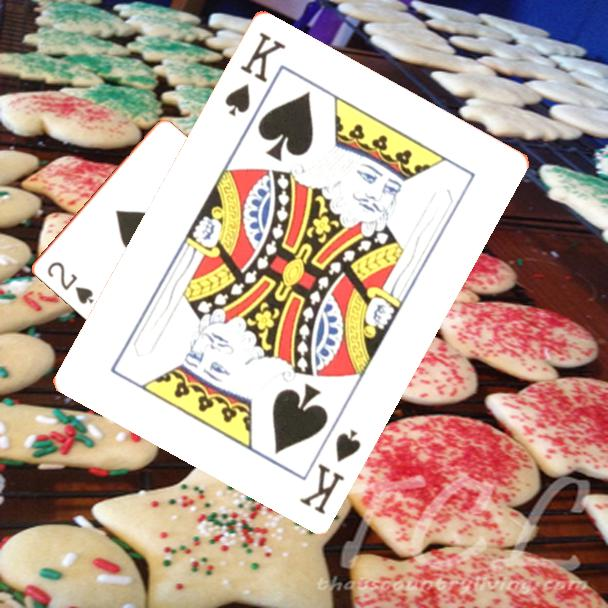s02: (43, 258, 96, 307)
s13: (295, 424, 364, 517), (221, 27, 289, 119)
